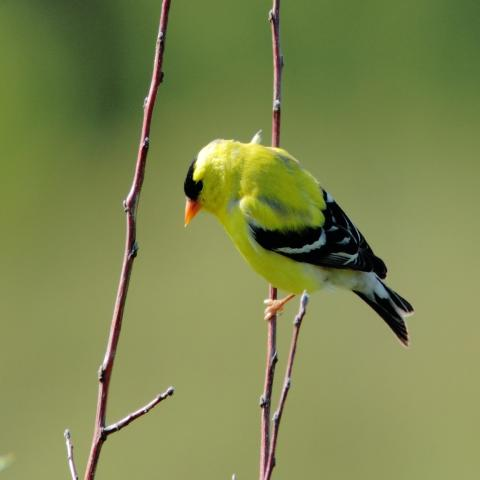bird: (180, 128, 416, 351)
